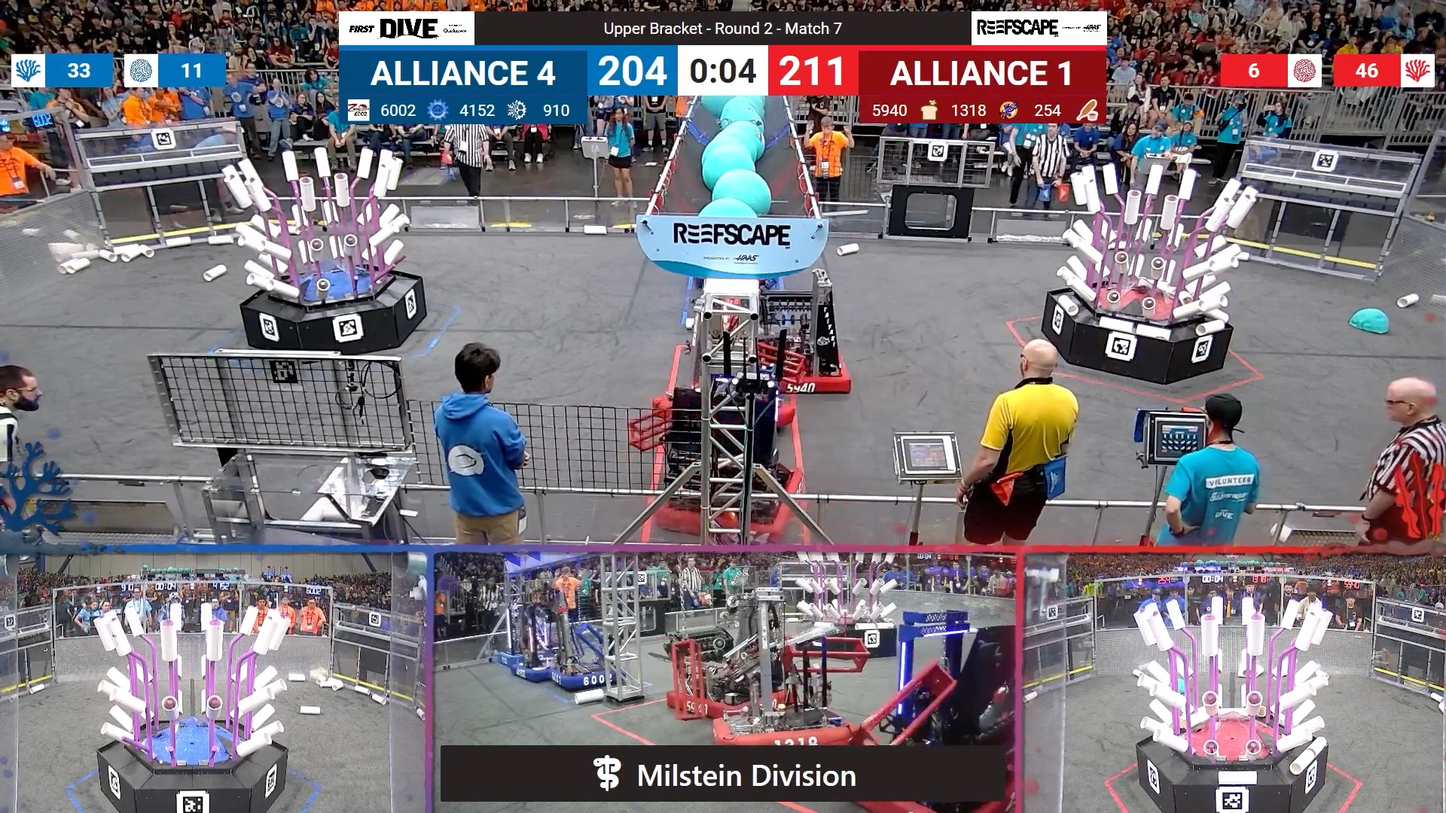bumpers: (647, 477, 806, 549), (709, 711, 857, 749), (766, 342, 858, 399), (668, 688, 765, 719), (534, 663, 625, 689), (499, 659, 577, 684)
